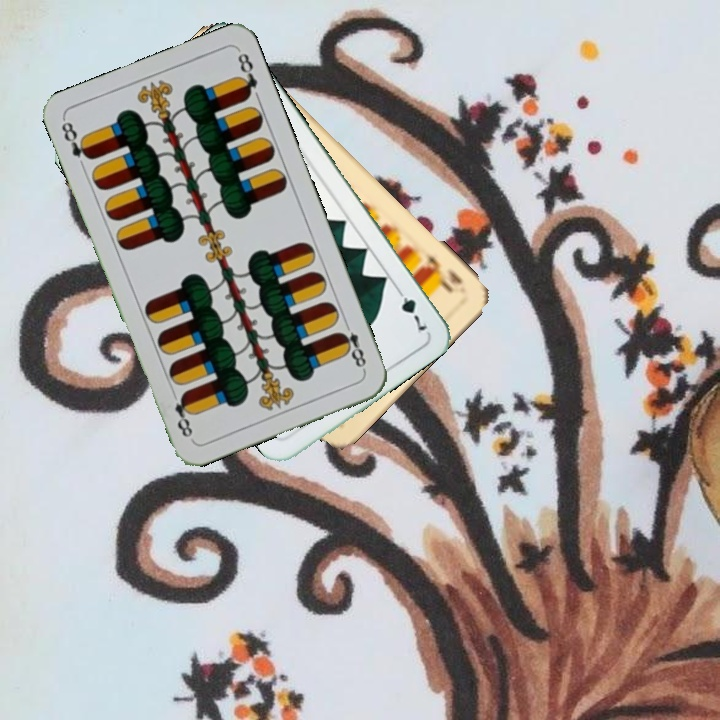E10: (419, 249, 465, 295)
E8: (334, 317, 369, 374), (57, 116, 95, 163)
G7: (391, 282, 430, 336)
